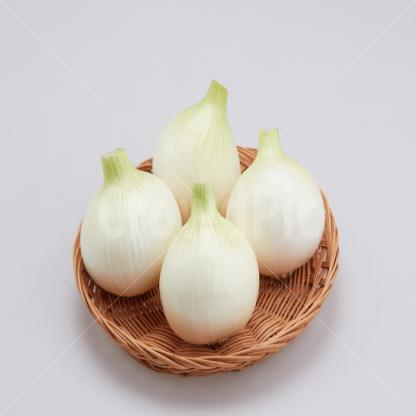onion: (167, 193, 250, 339), (230, 144, 328, 266), (86, 160, 176, 284), (159, 96, 246, 204)
